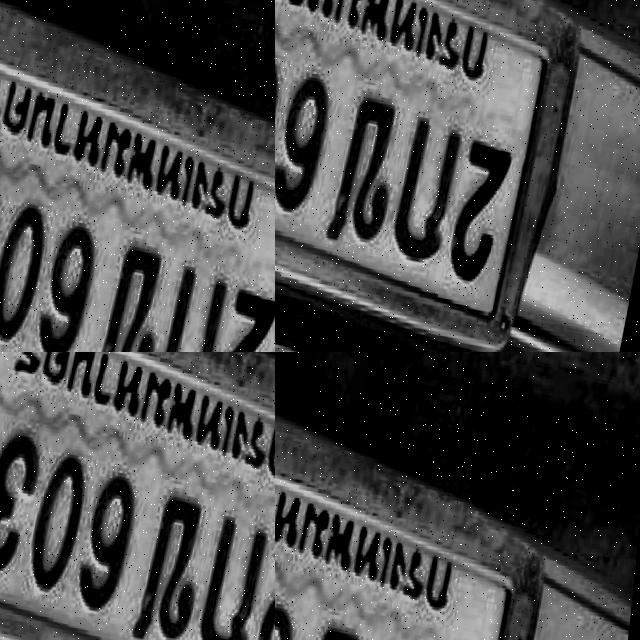license-plate: (275, 352, 582, 640), (3, 352, 275, 640), (373, 63, 640, 352), (70, 260, 275, 352)
